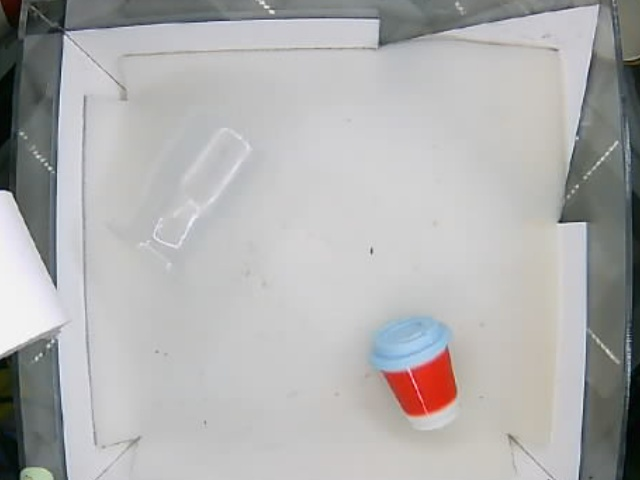Bottle: (111, 116, 264, 269)
Cup: (372, 315, 461, 429)
